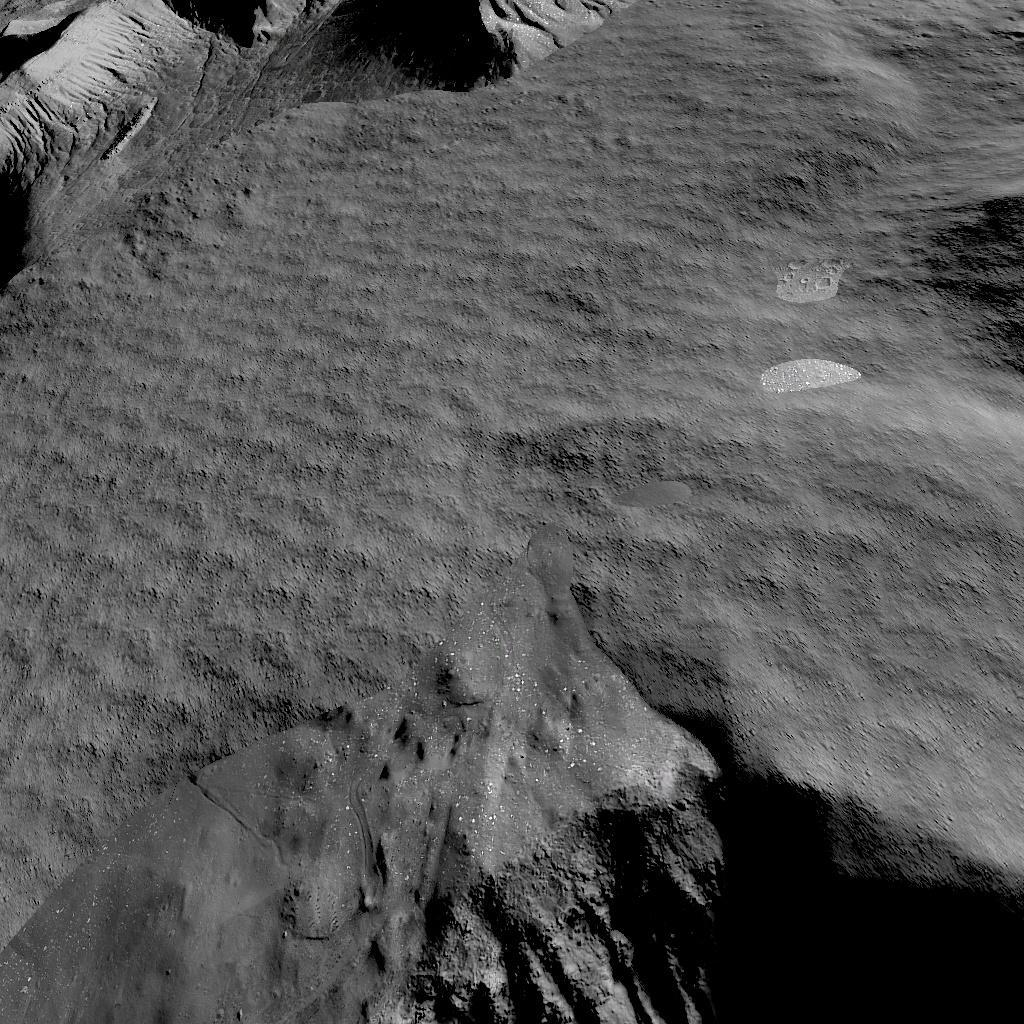Boulders: (0, 0, 638, 295)
Crater: (0, 562, 1024, 1024), (943, 190, 1024, 373)
Plan surface: (0, 310, 927, 550)
